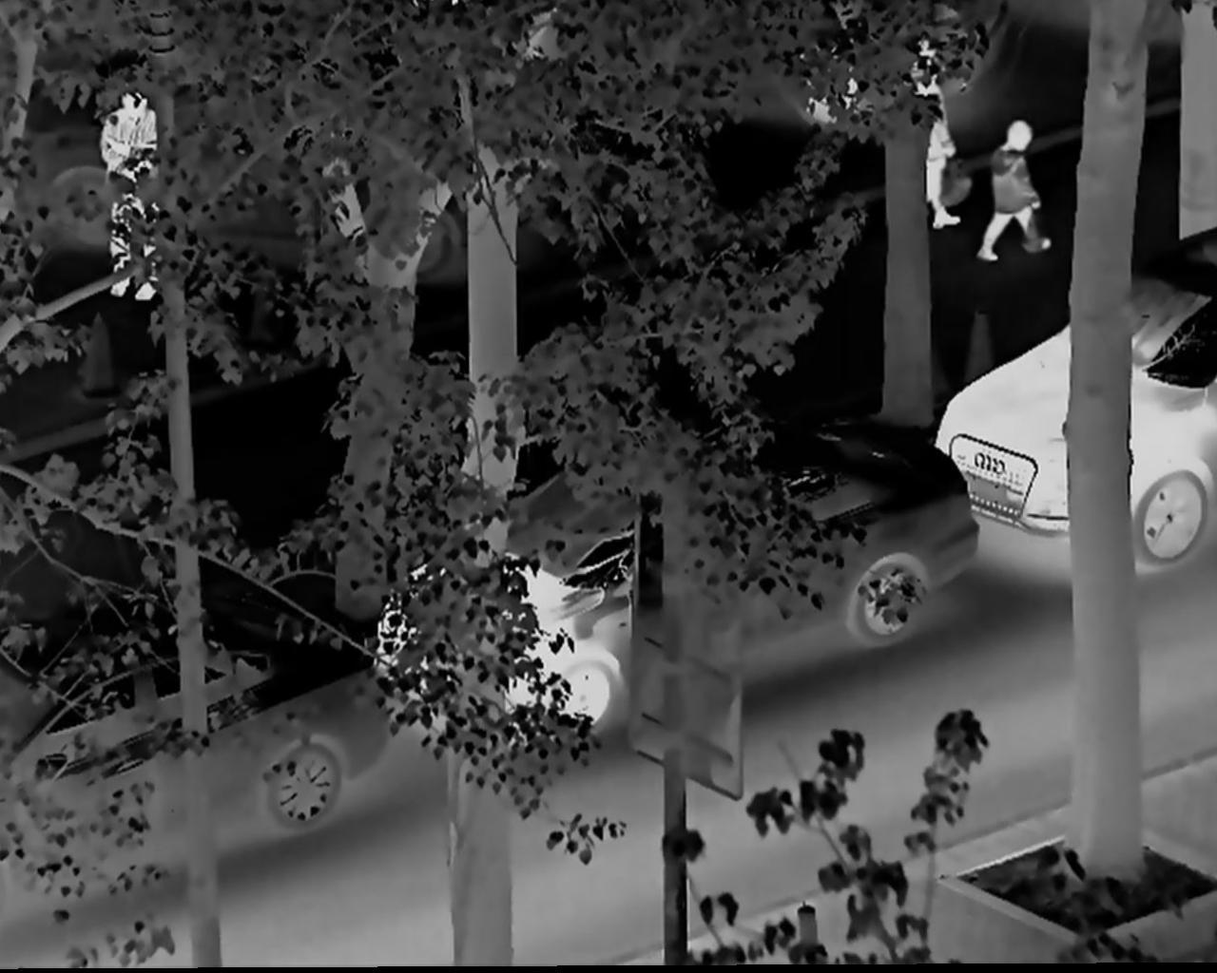person: (93, 79, 164, 306), (900, 44, 959, 239), (977, 114, 1051, 261)
